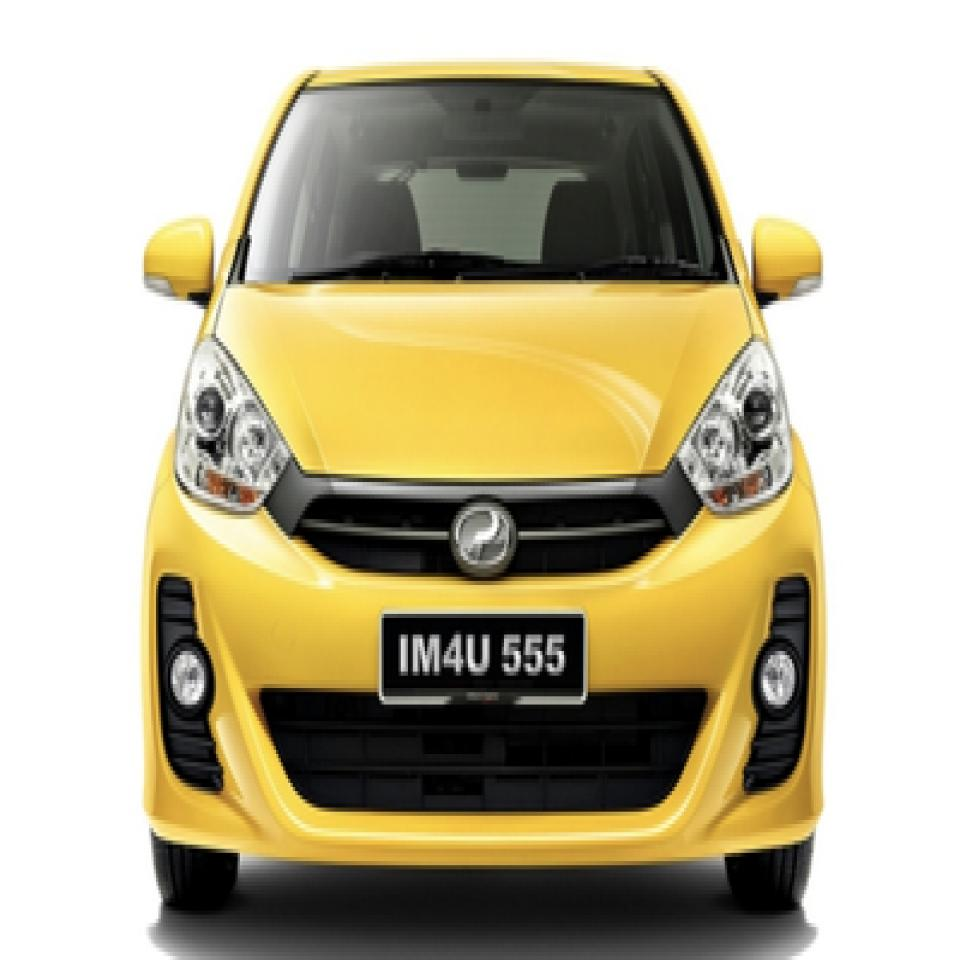licence: (382, 610, 588, 700)
